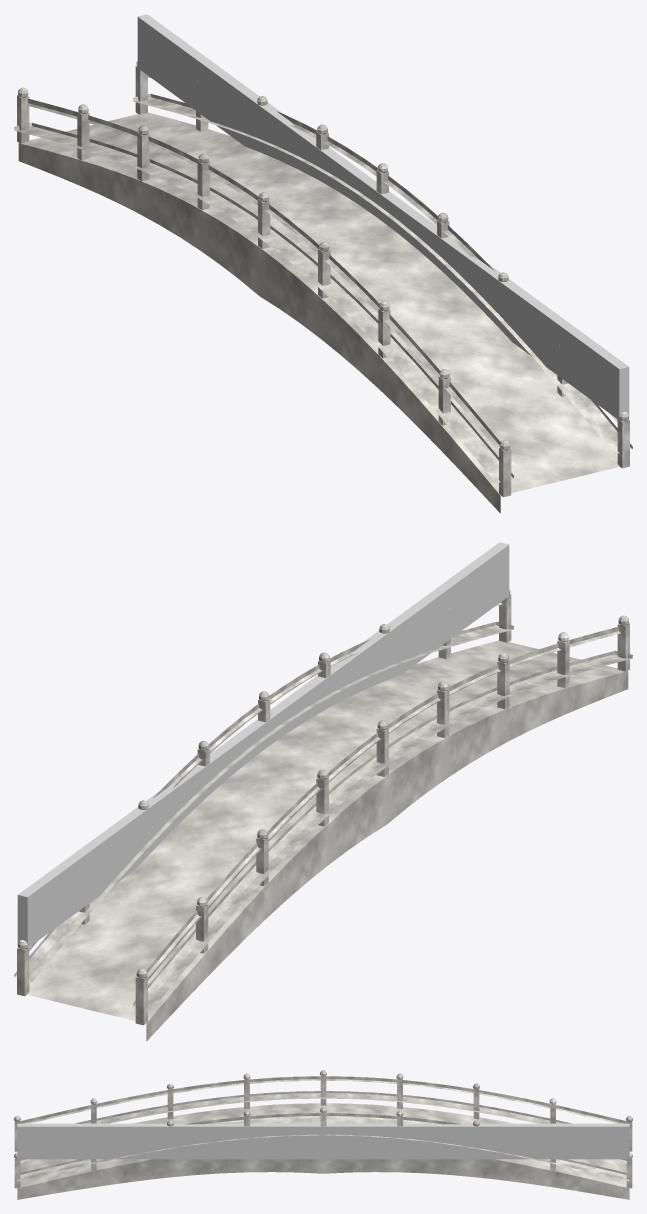
The model's file is stone_bridge.glb.
3 views of the same model, one above another, from view 1: azimuth 30°, elevation 25°; view 2: azimuth 150°, elevation 25°; view 3: azimuth 270°, elevation 25° (orthographic). The views are drawn at different scales.
Visible parts, largest first — view 1: BridgeDeck, BridgeRails, BridgeRail-convcolonly.001; view 2: BridgeDeck, BridgeRails, BridgeRail-convcolonly.001; view 3: BridgeRail-convcolonly.001, BridgeDeck, BridgeRails.
Boxes of the visible parts, <box> form: BridgeDeck: <box>18,112,619,513</box>; BridgeRails: <box>14,61,632,497</box>; BridgeRail-convcolonly.001: <box>137,14,629,420</box>; BridgeDeck: <box>27,640,628,1041</box>; BridgeRails: <box>14,589,632,1025</box>; BridgeRail-convcolonly.001: <box>17,542,509,948</box>; BridgeRail-convcolonly.001: <box>17,1123,629,1159</box>; BridgeDeck: <box>17,1103,629,1199</box>; BridgeRails: <box>14,1070,632,1188</box>.
Size of what is drawn, in the model's own units: 2.78 by 2.8 by 17.19.
1 material, 1 textured.
